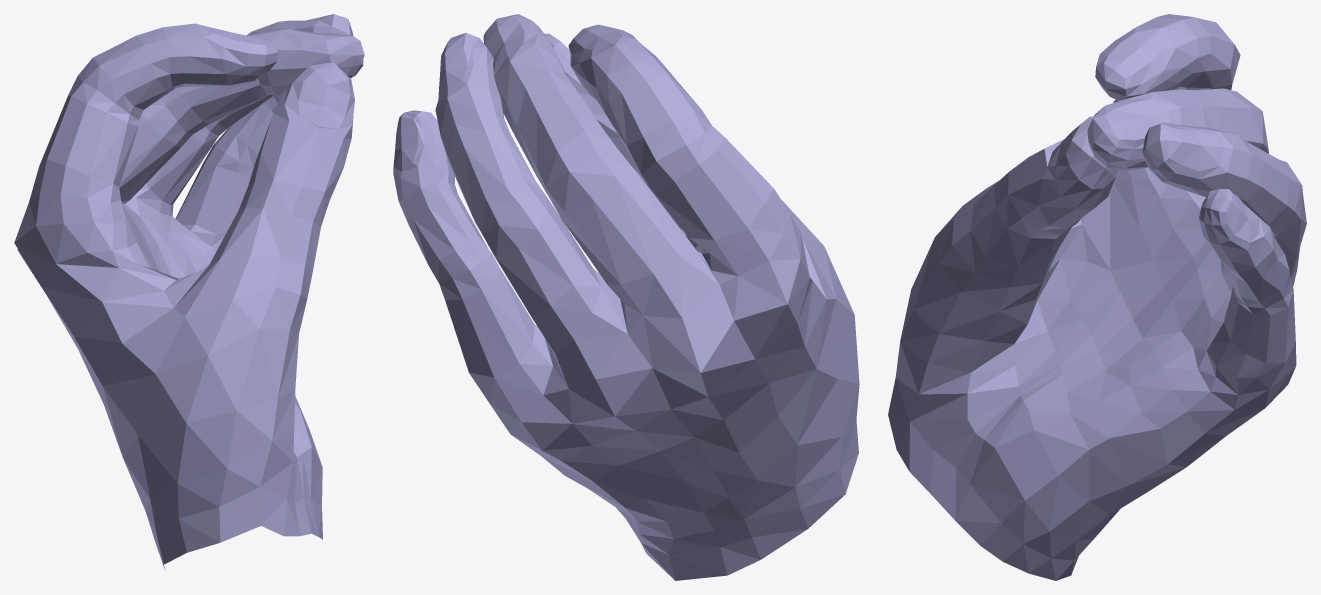
File: hand_0034.glb
3 renders of one model, left to right at view 1: azimuth 30°, elevation 25°; view 2: azimuth 150°, elevation 25°; view 3: azimuth 270°, elevation 25°, orthographic. The views are drawn at different scales.
Visible parts, largest first — view 1: world; view 2: world; view 3: world.
Part boxes in pixels (x1,y1,x2,y2): world: (14,14,364,570); world: (393,14,859,580); world: (888,14,1306,580).
Size of the model in its own units: 0.0973 by 0.1412 by 0.0967.
